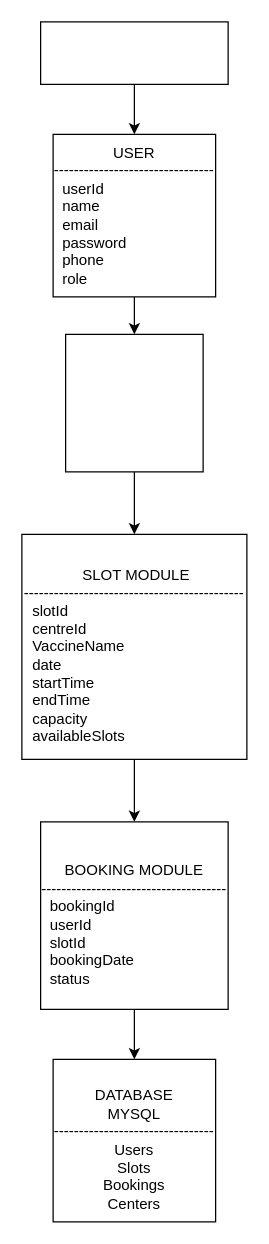
This 269x1244 diagram has some shape labels left out. Each missing label, with the box of its shape:
AUTH MODULE --------------------------- Registration Login Authentication: (64, 333, 203, 472)
Vaccination Booking Slo CLASS|MODULEt: (39, 21, 228, 84)
